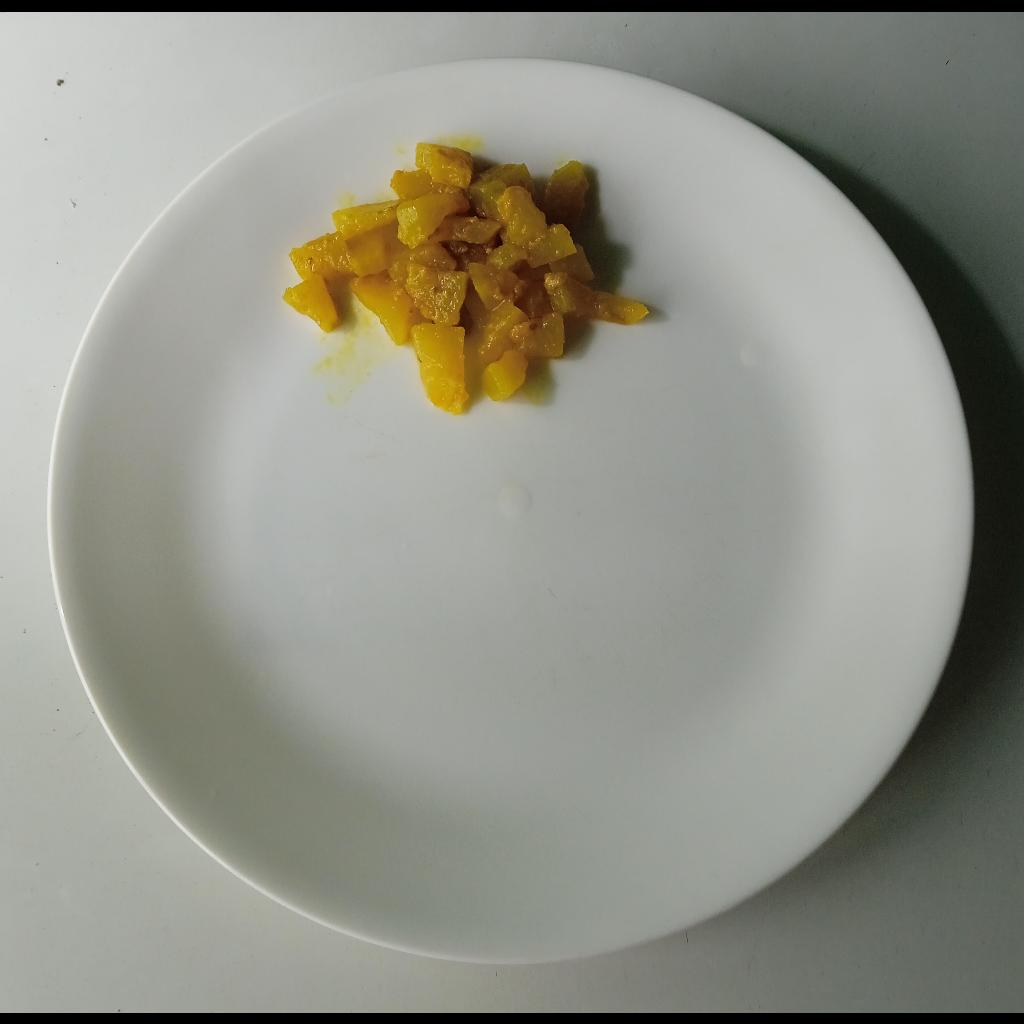kumra-vaji: (282, 140, 651, 414)
